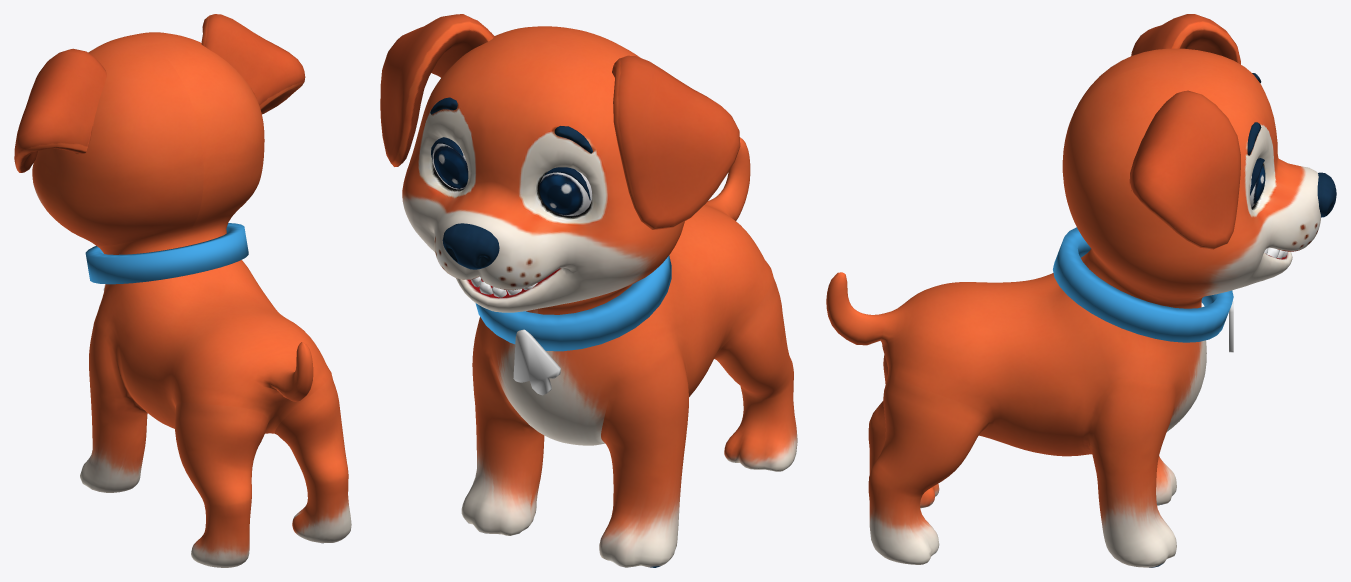
Rendered from player.glb.
3 views of the same model, side by side, from view 1: azimuth 30°, elevation 25°; view 2: azimuth 150°, elevation 25°; view 3: azimuth 270°, elevation 25° (orthographic). The views are drawn at different scales.
Parts seen in each view (by area): view 1: Body_low; view 2: Body_low, Nose_low, L_eye_low, R_eye_low; view 3: Body_low, Nose_low.
Part boxes in pixels (x1,y1,x2,y2): Body_low: (14,14,351,567); Body_low: (380,14,797,567); Nose_low: (442,223,499,269); L_eye_low: (539,170,591,215); R_eye_low: (432,138,468,189); Body_low: (826,14,1320,567); Nose_low: (1317,172,1336,217).
Bounding box in the file's own units: 1.41 × 2 × 1.96.
3 materials, 1 textured.
